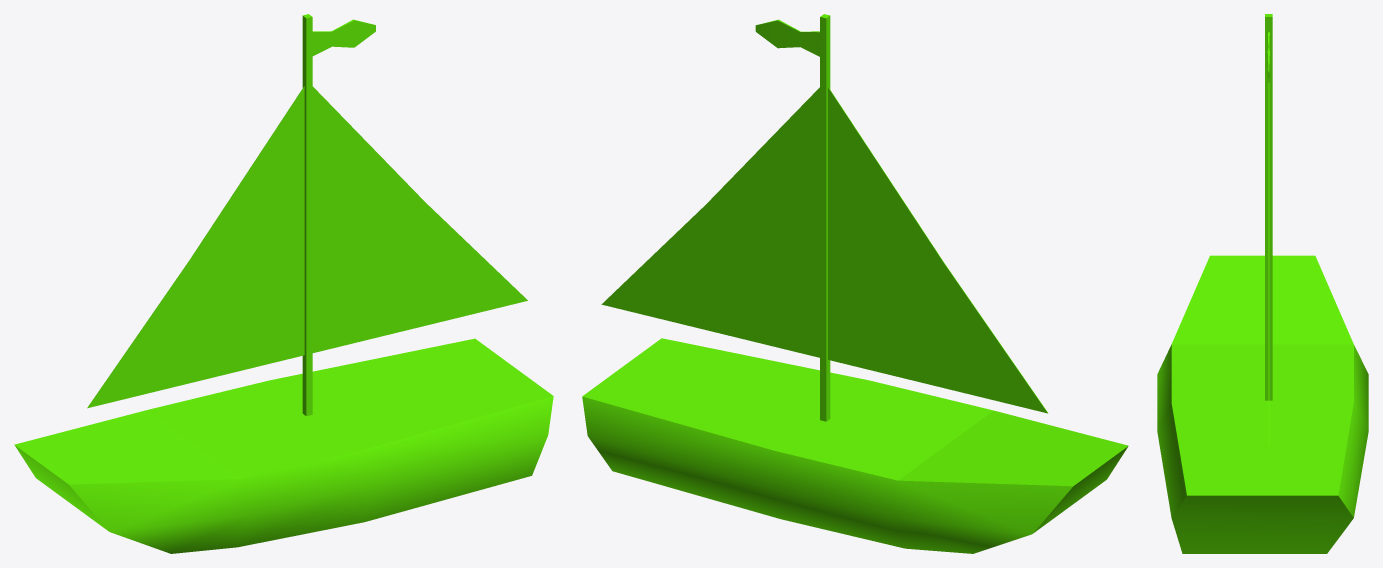
The model's file is barquinho_verde.FBX.
3 renders of one model, left to right at view 1: azimuth 30°, elevation 25°; view 2: azimuth 150°, elevation 25°; view 3: azimuth 270°, elevation 25°, orthographic. The views are drawn at different scales.
Visible parts, largest first — view 1: Barquinho_Verde; view 2: Barquinho_Verde; view 3: Barquinho_Verde.
Part boxes in pixels (x1=…): Barquinho_Verde: x1=14, y1=14, x2=553, y2=553; Barquinho_Verde: x1=582, y1=14, x2=1128, y2=553; Barquinho_Verde: x1=1157, y1=14, x2=1368, y2=553.
Bounding box in the file's own units: 131 × 50.88 × 121.
